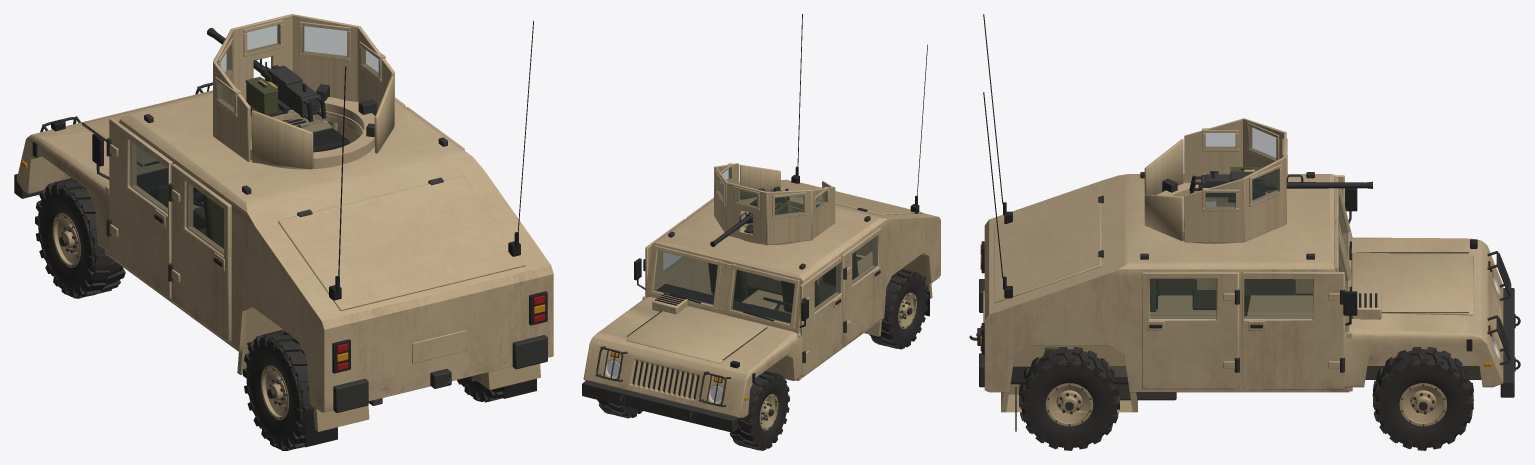
3 views of the same model, side by side, from view 1: azimuth 30°, elevation 25°; view 2: azimuth 150°, elevation 25°; view 3: azimuth 270°, elevation 25° (orthographic). The views are drawn at different scales.
Parts seen in each view (by area): view 1: body, turret, wheel_fl, wheel_rl, glass, gun, glass_turret, wheel_rr; view 2: body, turret, glass, wheel_fl, wheel_rl, glass_turret, gun, wheel_fr; view 3: body, turret, wheel_fr, wheel_rr, glass, glass_turret, gun.
Part boxes in pixels (x1,y1,x2,y2): body: (14, 20, 553, 447); turret: (213, 14, 394, 169); wheel_fl: (35, 178, 125, 298); wheel_rl: (243, 329, 313, 450); glass: (130, 119, 334, 255); gun: (207, 28, 326, 121); glass_turret: (216, 24, 378, 112); wheel_rr: (457, 378, 503, 402); body: (582, 14, 940, 432); turret: (714, 163, 835, 245); glass: (654, 236, 876, 323); wheel_fl: (729, 370, 789, 450); wheel_rl: (869, 269, 928, 349); glass_turret: (715, 167, 827, 216); gun: (710, 186, 789, 246); wheel_fr: (597, 399, 642, 418); body: (969, 14, 1520, 431); turret: (1144, 118, 1287, 242); wheel_fr: (1372, 347, 1473, 450); wheel_rr: (1019, 346, 1119, 450); glass: (1150, 196, 1347, 318); glass_turret: (1205, 126, 1279, 208); gun: (1189, 167, 1372, 202).
Bounding box in the file's own units: 2.34 × 3.6 × 5.14.
Materials: 16 (1 with a texture image).
